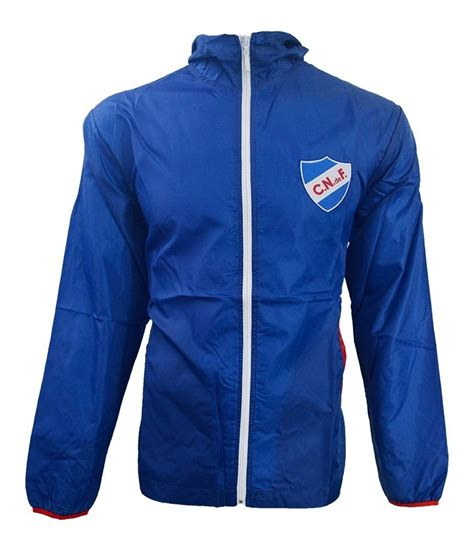nylon: (26, 32, 450, 521)
